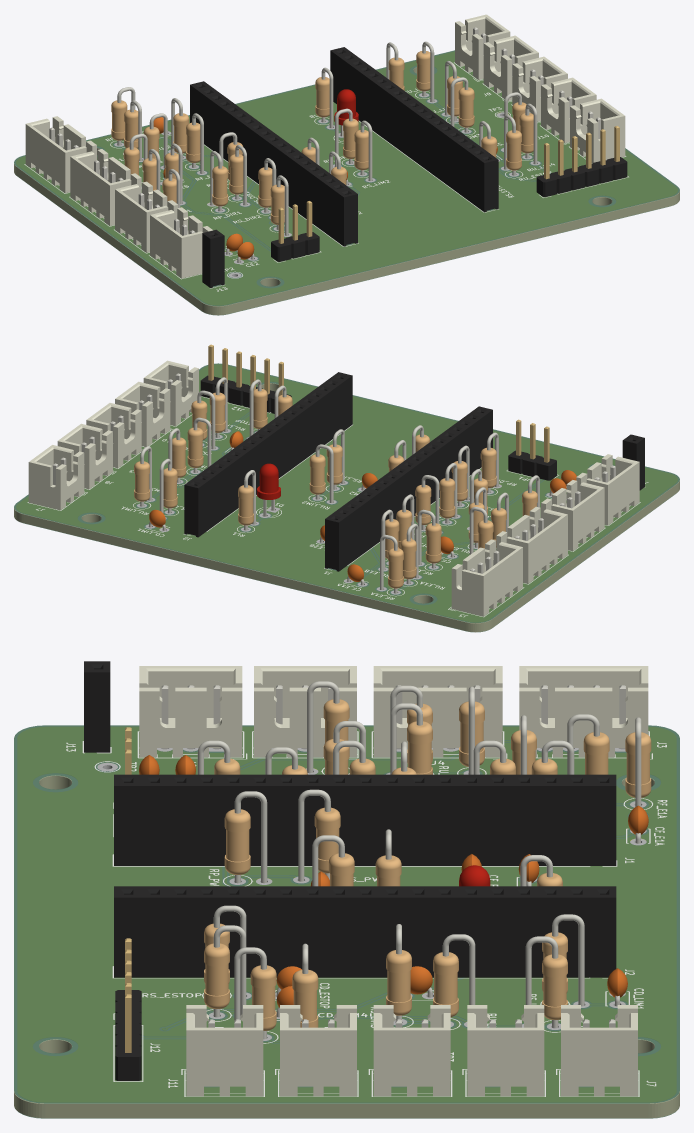
File: board.glb
3 views of the same model, one above another, from view 1: azimuth 30°, elevation 25°; view 2: azimuth 150°, elevation 25°; view 3: azimuth 270°, elevation 25° (orthographic). The views are drawn at different scales.
Parts seen in each view (by area): view 1: =>[0:1:1:26], =>[0:1:1:22], =>[0:1:1:7] (×2), =>[0:1:1:21] (×22), =>[0:1:1:9] (×5), =>[0:1:1:28], =>[0:1:1:15] (×2), =>[0:1:1:17] (×2), =>[0:1:1:11], =>[0:1:1:25], =>[0:1:1:19], =>[0:1:1:13] (+3 smaller); view 2: =>[0:1:1:26], =>[0:1:1:22], =>[0:1:1:21] (×24), =>[0:1:1:7] (×2), =>[0:1:1:9] (×5), =>[0:1:1:28], =>[0:1:1:15] (×2), =>[0:1:1:17] (×2), =>[0:1:1:25], =>[0:1:1:11], =>[0:1:1:19], =>[0:1:1:23] (+3 smaller); view 3: =>[0:1:1:26], =>[0:1:1:7] (×2), =>[0:1:1:22], =>[0:1:1:21] (×25), =>[0:1:1:9] (×5), =>[0:1:1:15] (×2), =>[0:1:1:17] (×2), =>[0:1:1:28], =>[0:1:1:25], =>[0:1:1:11], =>[0:1:1:13], =>[0:1:1:23].
Boxes of the visible parts, left/top/right/bottom form: =>[0:1:1:26]: left=14, top=50, right=679, bottom=306; =>[0:1:1:22]: left=16, top=52, right=677, bottom=304; =>[0:1:1:7] (×2): left=190, top=47, right=498, bottom=246; =>[0:1:1:21] (×22): left=111, top=41, right=537, bottom=235; =>[0:1:1:9] (×5): left=455, top=14, right=625, bottom=163; =>[0:1:1:28]: left=14, top=66, right=679, bottom=315; =>[0:1:1:15] (×2): left=25, top=116, right=141, bottom=225; =>[0:1:1:17] (×2): left=115, top=181, right=212, bottom=278; =>[0:1:1:11]: left=536, top=125, right=627, bottom=196; =>[0:1:1:25]: left=24, top=62, right=628, bottom=291; =>[0:1:1:19]: left=271, top=201, right=319, bottom=261; =>[0:1:1:13]: left=202, top=229, right=224, bottom=287; =>[0:1:1:26]: left=14, top=363, right=679, bottom=623; =>[0:1:1:22]: left=16, top=365, right=677, bottom=621; =>[0:1:1:21] (×24): left=134, top=377, right=539, bottom=593; =>[0:1:1:7] (×2): left=184, top=372, right=492, bottom=571; =>[0:1:1:9] (×5): left=28, top=360, right=198, bottom=510; =>[0:1:1:28]: left=14, top=367, right=679, bottom=632; =>[0:1:1:15] (×2): left=451, top=506, right=567, bottom=616; =>[0:1:1:17] (×2): left=541, top=454, right=639, bottom=550; =>[0:1:1:25]: left=27, top=396, right=648, bottom=617; =>[0:1:1:11]: left=200, top=344, right=291, bottom=413; =>[0:1:1:19]: left=508, top=419, right=556, bottom=480; =>[0:1:1:23]: left=137, top=429, right=566, bottom=594; =>[0:1:1:26]: left=14, top=725, right=679, bottom=1103; =>[0:1:1:7] (×2): left=114, top=774, right=616, bottom=977; =>[0:1:1:22]: left=18, top=727, right=675, bottom=1101; =>[0:1:1:21] (×25): left=197, top=681, right=651, bottom=1039; =>[0:1:1:9] (×5): left=186, top=1005, right=637, bottom=1096; =>[0:1:1:15] (×2): left=373, top=666, right=648, bottom=757; =>[0:1:1:17] (×2): left=139, top=666, right=356, bottom=757; =>[0:1:1:28]: left=14, top=726, right=679, bottom=1118; =>[0:1:1:25]: left=66, top=731, right=667, bottom=1096; =>[0:1:1:11]: left=115, top=938, right=141, bottom=1080; =>[0:1:1:13]: left=84, top=661, right=110, bottom=752; =>[0:1:1:23]: left=97, top=748, right=646, bottom=1040.
Size of the model in its own units: 0.086 by 0.0129 by 0.064.
